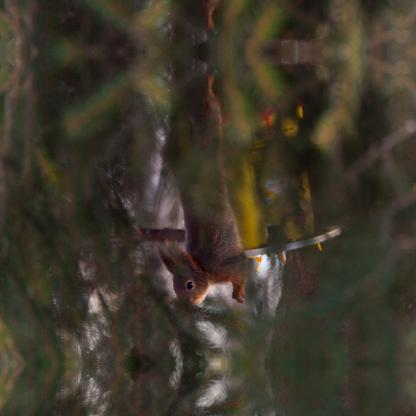Squirrel: (154, 52, 250, 308), (153, 0, 251, 53)
